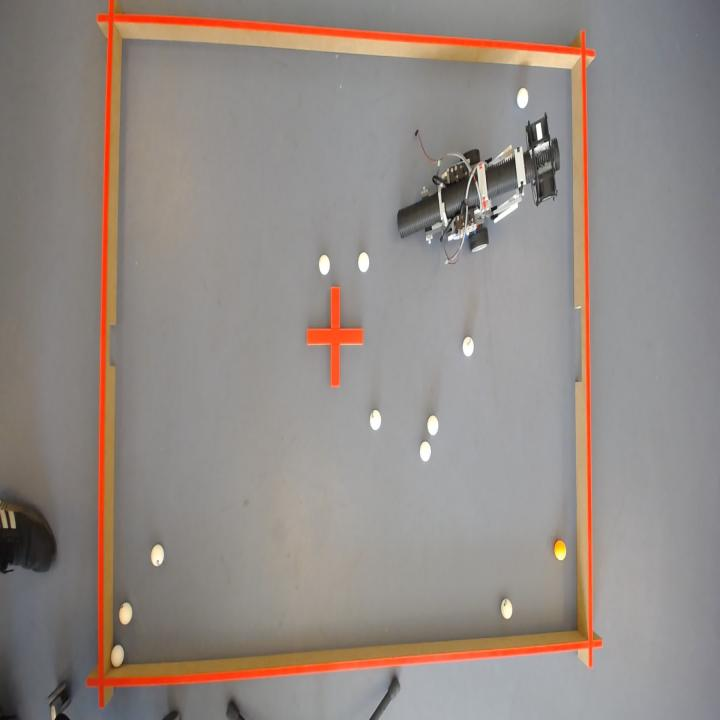orange: (555, 540, 567, 561)
robot: (398, 113, 561, 249)
white: (118, 602, 132, 626), (110, 645, 123, 668), (150, 545, 164, 566), (518, 85, 530, 107), (463, 335, 475, 356), (501, 599, 513, 620), (370, 409, 381, 430), (428, 414, 439, 435), (319, 254, 330, 274), (358, 251, 369, 271), (420, 441, 431, 461)
